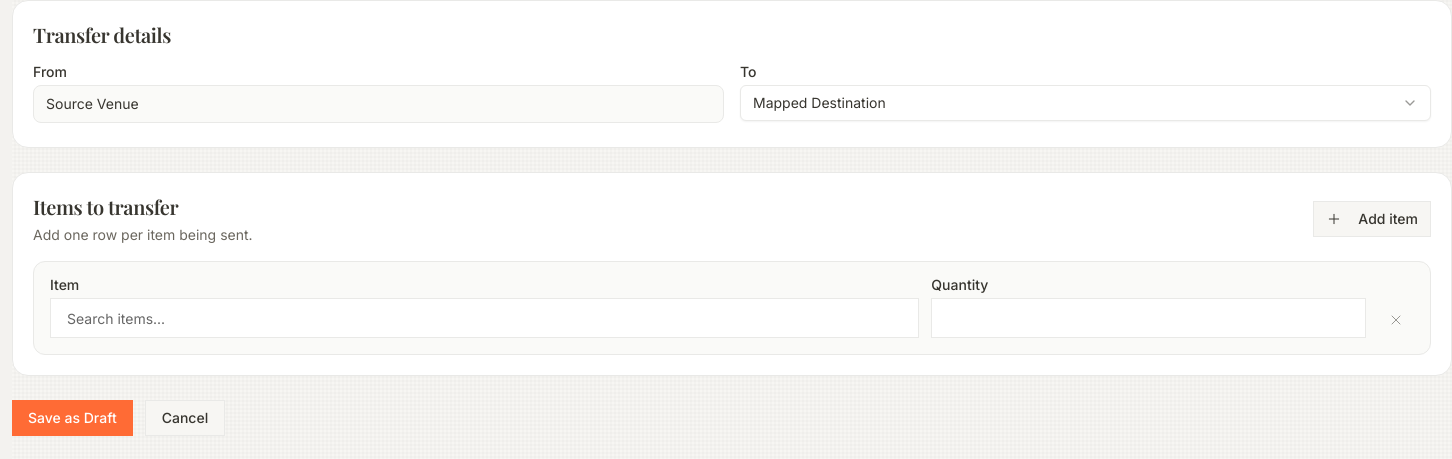
Test: #336 create transfer form re-validates rows against the destination › names the SOURCE venue, not the destination, when the near end is the missing one
The image size is (1452, 459).
Focus the field with placeholder "Search items...": (485, 318) [50, 298, 919, 338]
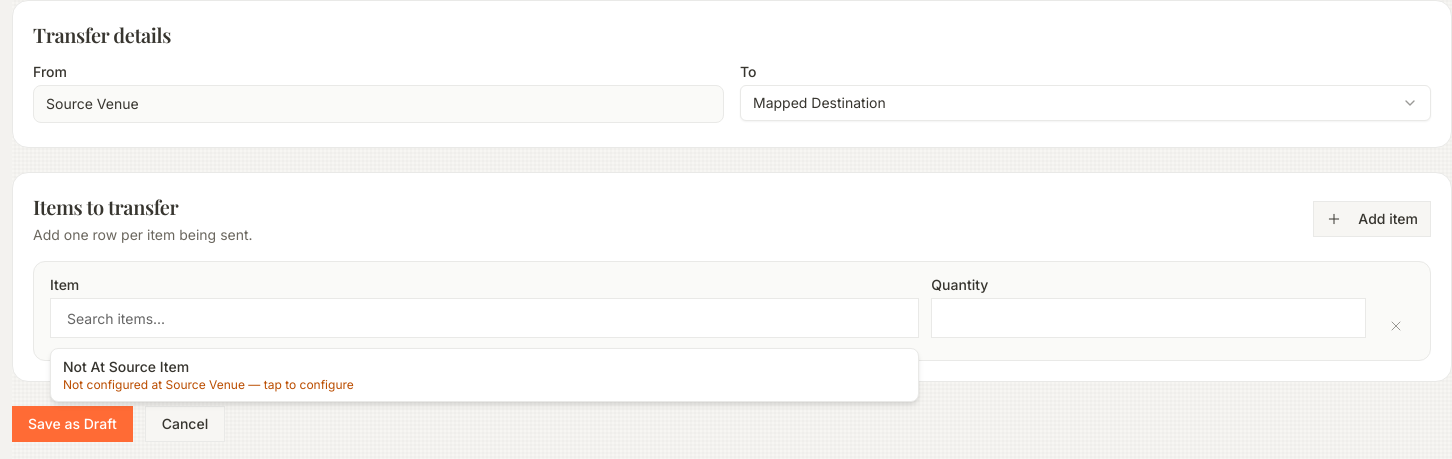
Expected: the button does not show "Mapped Destination"
Expected: the button that starts with "Not At Source Item" shows "Source Venue", [51, 349, 918, 401]
